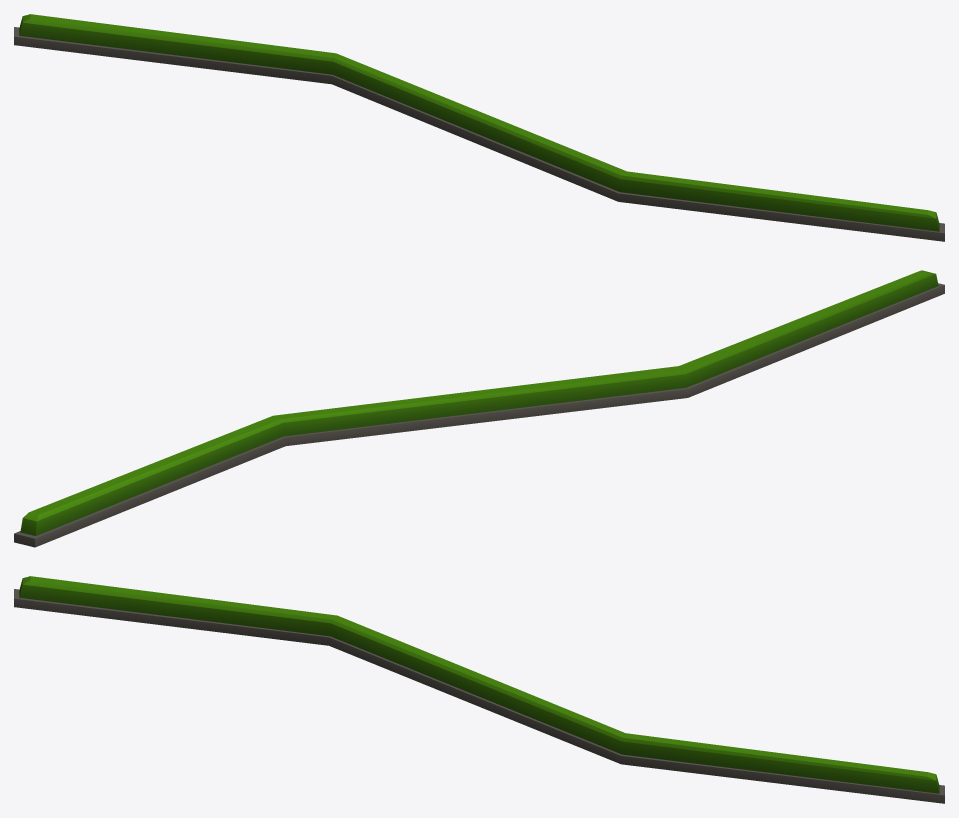
Rendered from Env_Block_CurveB.fbx.
3 views of the same model, one above another, from view 1: azimuth 90°, elevation 25°; view 2: azimuth 150°, elevation 25°; view 3: azimuth 270°, elevation 25° (orthographic). The views are drawn at different scales.
Visible parts, largest first — view 1: Env_Block_CurveB; view 2: Env_Block_CurveB; view 3: Env_Block_CurveB.
Part boxes in pixels (left/top/right/bottom): Env_Block_CurveB: left=14, top=14, right=944, bottom=241; Env_Block_CurveB: left=14, top=270, right=944, bottom=547; Env_Block_CurveB: left=14, top=576, right=944, bottom=803.
Size of the model in its own units: 2100 by 114 by 4000.
